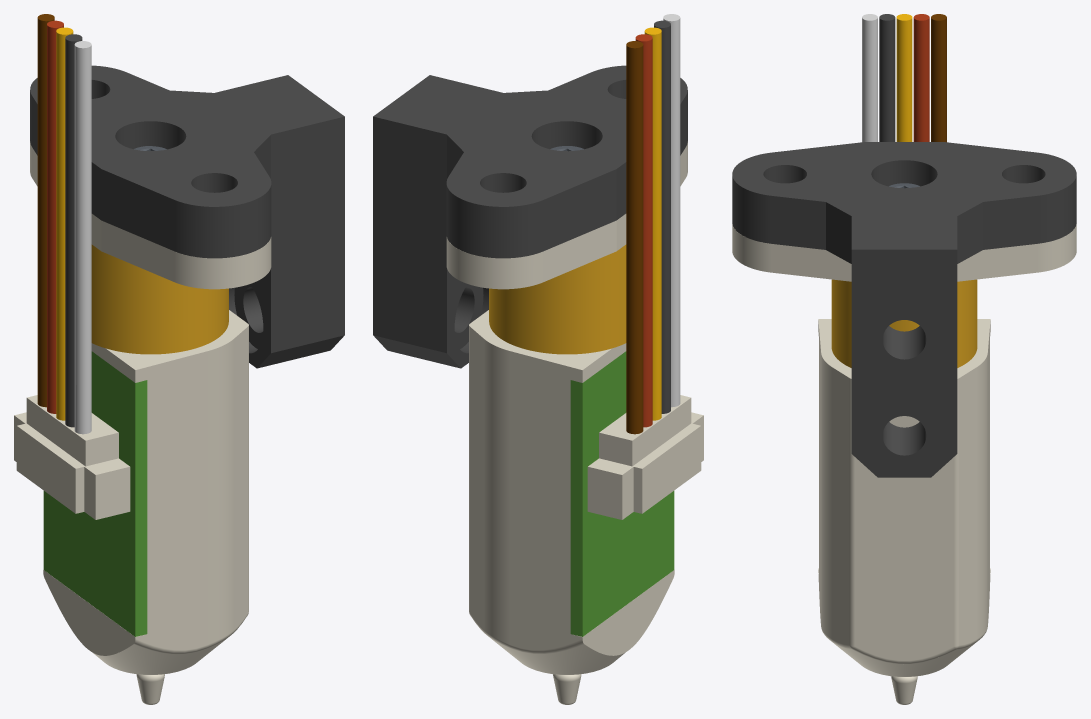
File: BL-Touch Alt.dae
3 views of the same model, side by side, from view 1: azimuth 30°, elevation 25°; view 2: azimuth 150°, elevation 25°; view 3: azimuth 270°, elevation 25° (orthographic). The views are drawn at different scales.
Visible parts, largest first — view 1: BL-touch v3.x, bl_touch_mount_alt; view 2: BL-touch v3.x, bl_touch_mount_alt; view 3: BL-touch v3.x, bl_touch_mount_alt.
Part boxes in pixels (<box>): BL-touch v3.x: <box>14,14,271,704</box>; bl_touch_mount_alt: <box>30,65,344,368</box>; BL-touch v3.x: <box>446,14,703,704</box>; bl_touch_mount_alt: <box>373,65,687,368</box>; BL-touch v3.x: <box>732,14,1076,704</box>; bl_touch_mount_alt: <box>732,142,1076,477</box>.
Bounding box in the file's own units: 0.022 × 0.026 × 0.0538.
